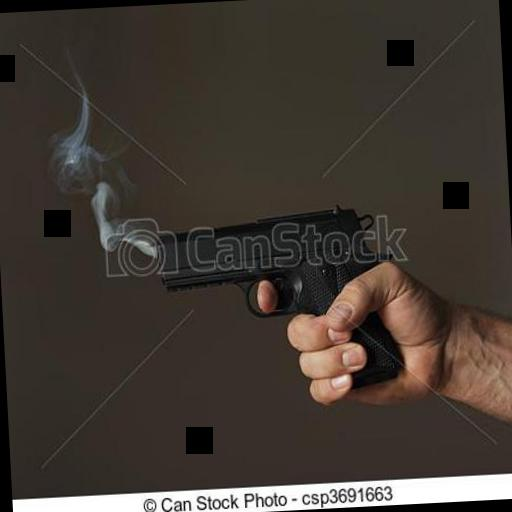Handgun: (148, 200, 408, 398)
